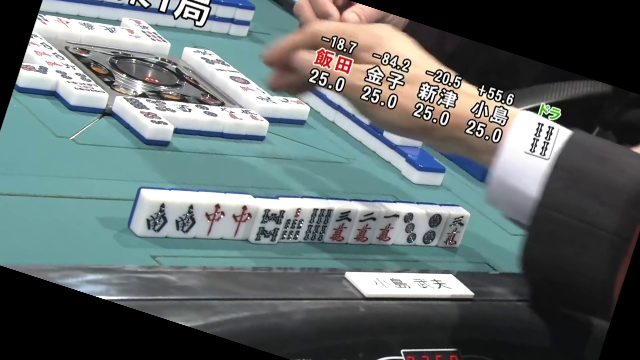Tehai: (132, 190, 473, 252)
